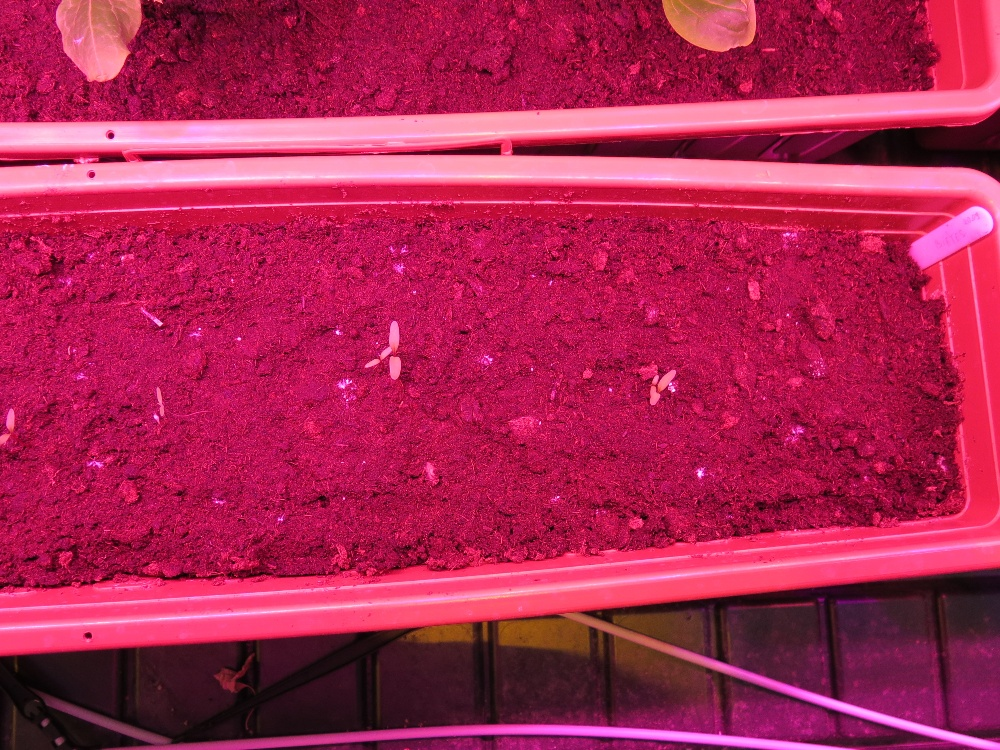crop: (644, 368, 679, 405), (388, 319, 402, 383), (362, 348, 388, 369)
weed: (154, 385, 166, 419)
